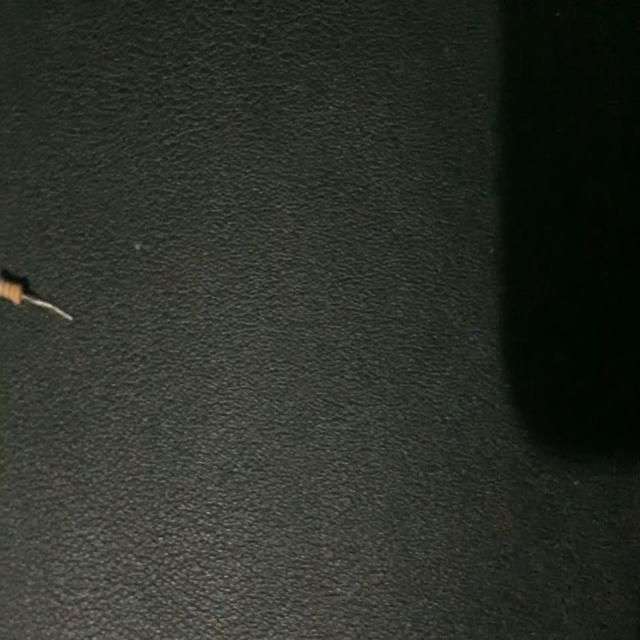resistor: (0, 256, 80, 330)
